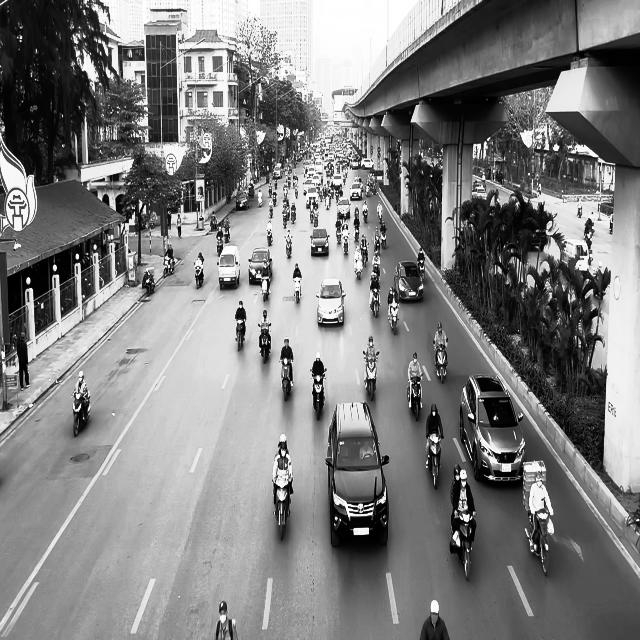car: (325, 401, 390, 548), (459, 373, 526, 483), (316, 278, 345, 326), (394, 260, 424, 302), (217, 245, 240, 290), (248, 247, 272, 285), (310, 226, 330, 256), (235, 191, 249, 210)
motorbike: (524, 509, 554, 576), (450, 512, 476, 580), (272, 477, 293, 540), (425, 432, 443, 490), (362, 350, 380, 400), (72, 388, 90, 436), (310, 369, 326, 420), (407, 376, 423, 421), (432, 339, 448, 383), (280, 356, 294, 401), (258, 322, 272, 362), (235, 317, 246, 351), (388, 300, 399, 334), (142, 268, 155, 296), (370, 286, 380, 317), (261, 272, 271, 302), (194, 261, 204, 289), (163, 255, 175, 277), (293, 274, 301, 303), (416, 260, 424, 282), (216, 234, 224, 256), (285, 235, 292, 258), (266, 227, 273, 246)
